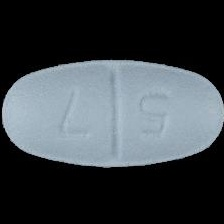51138-586: (0, 0, 224, 224)
